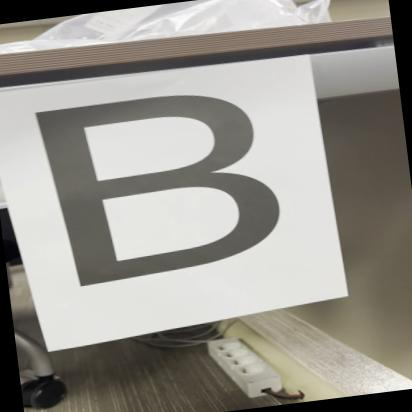seat: (28, 79, 295, 299)
